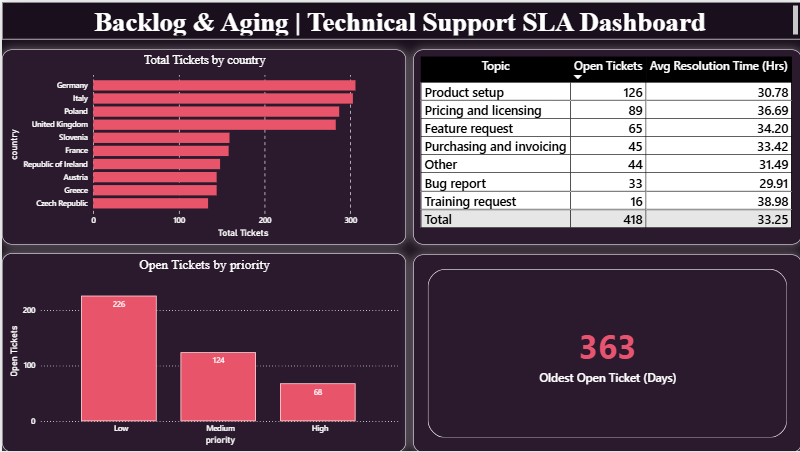

The page's visual inventory and layout, read from the dashboard file:
{"tool":"powerbi","page":{"name":"Backlog & Aging","canvas":[1280,720],"ordinal":3},"visuals":[{"type":"textbox","box":[0,0,1280,60],"z":0},{"type":"clusteredBarChart","fields":{"Category":["dim_country.country"],"Y":["fact_tickets.Total Tickets"]},"box":[0,76.7,646.7,311.7],"z":1000},{"type":"clusteredColumnChart","fields":{"Category":["dim_priority.priority"],"Y":["fact_tickets.Open Tickets"]},"box":[0,401.7,646.7,318.3],"z":2000},{"type":"tableEx","fields":{"Values":["dim_topic.topic","fact_tickets.Open Tickets","fact_tickets.Avg Resolution Time (Hrs)"]},"box":[658.3,76.7,621.7,311.7],"z":3000},{"type":"cardVisual","fields":{"Data":["fact_tickets.Oldest Open Ticket (Hrs)"]},"box":[658.3,403.3,621.7,316.7],"z":4000}]}

Visuals, with their boxes in screenshot pixels (x1, y1, x2, y2), scaled from the page's 1280x720 canvas onto the 800x452 screenshot:
textbox: box=[0, 0, 799, 38]
clusteredBarChart - dim_country.country x fact_tickets.Total Tickets: box=[0, 48, 404, 244]
clusteredColumnChart - dim_priority.priority x fact_tickets.Open Tickets: box=[0, 252, 404, 451]
tableEx - dim_topic.topic x fact_tickets.Open Tickets: box=[411, 48, 799, 244]
cardVisual - fact_tickets.Oldest Open Ticket (Hrs): box=[411, 253, 799, 451]
